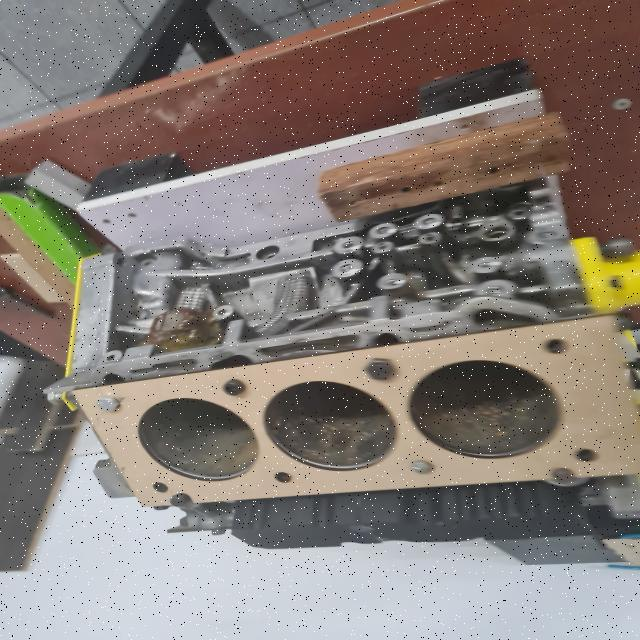vista1: (71, 314, 638, 507)
